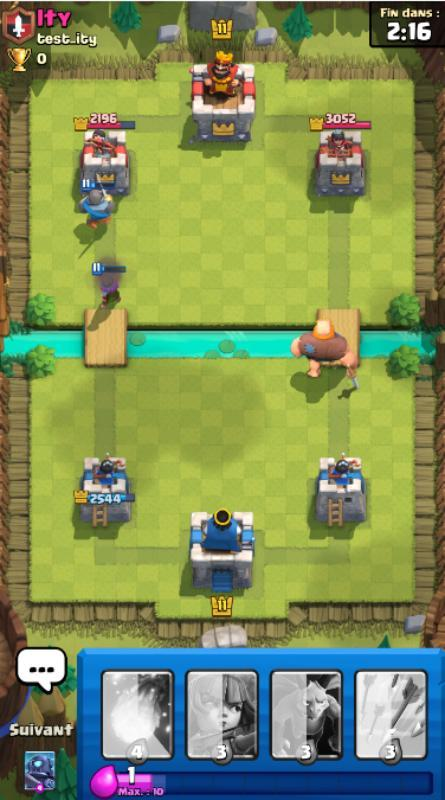chevalier: (77, 172, 117, 229)
geant: (291, 318, 361, 377)
mousquetaire: (91, 260, 127, 307)
